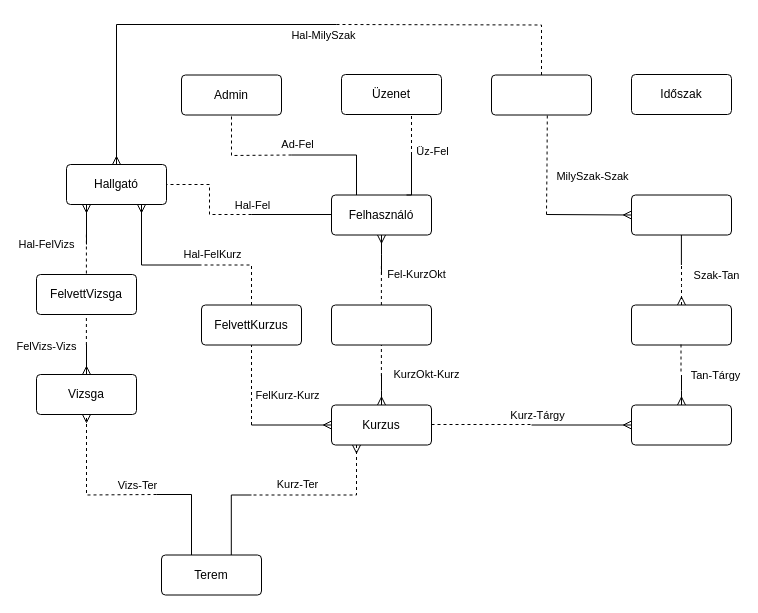
The diagram is 758 pixels wide and 613 high, and some of its shapes have lost their labels. Here are the shapes that lost their labels. From the top down, the centre of each, then its label:
point (541, 94): MilyenSzakon
point (681, 214): Szak
point (381, 324): KurzustOktat
point (681, 324): Tanterv
point (681, 424): Tárgy
